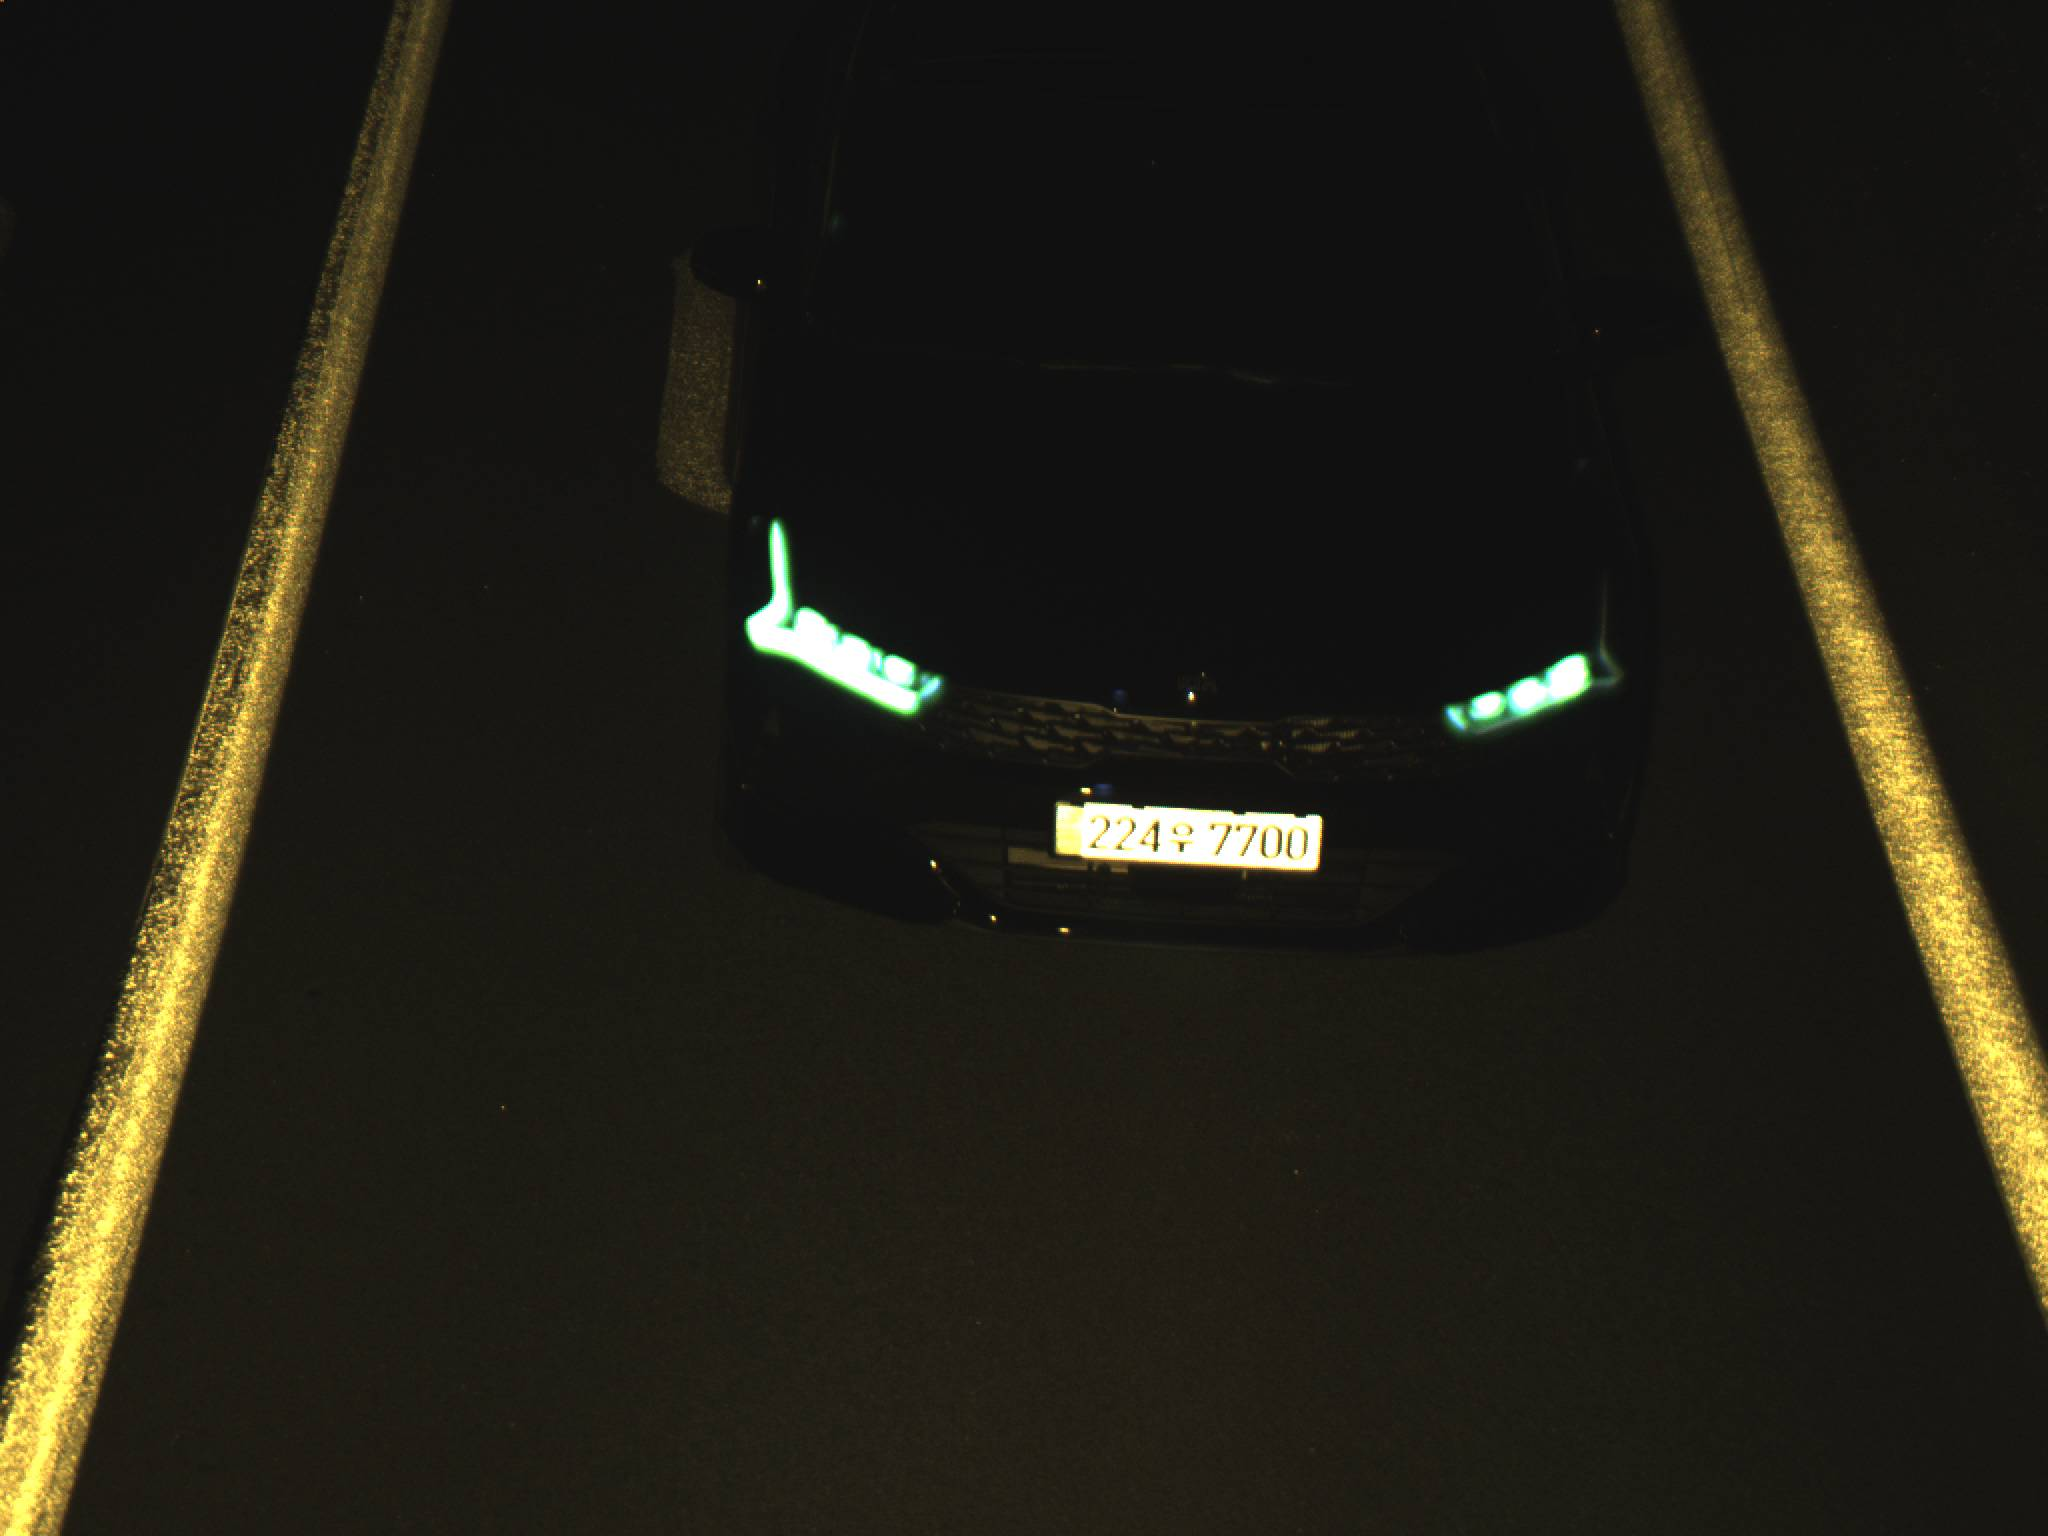car: (719, 1, 1657, 972)
plate: (1050, 800, 1325, 877)
